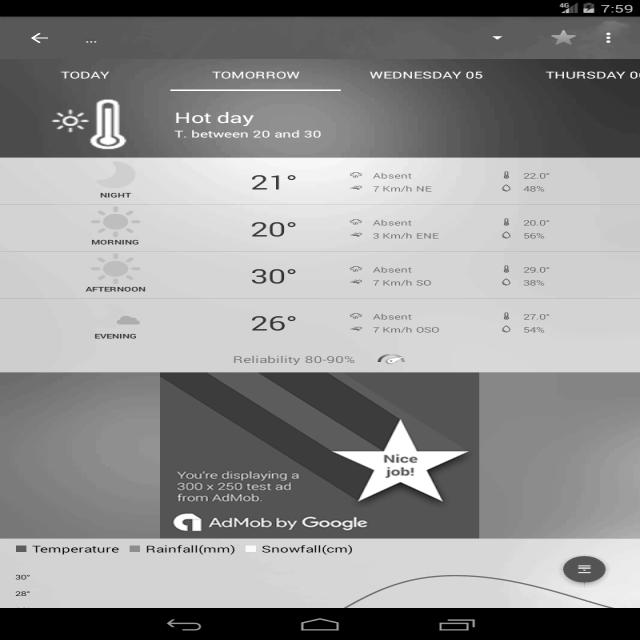ImageButton: (22, 30, 60, 46), (597, 27, 623, 49)
ImageView: (316, 398, 474, 508), (54, 96, 134, 150), (85, 202, 148, 236), (82, 251, 146, 281), (90, 161, 142, 189), (88, 305, 142, 330), (546, 29, 580, 49)
TextView: (169, 108, 333, 144), (175, 470, 307, 502), (207, 512, 371, 534), (227, 348, 356, 371), (368, 68, 494, 84), (538, 68, 638, 84), (260, 541, 354, 557), (30, 541, 126, 556), (244, 219, 304, 241), (238, 311, 296, 331), (244, 173, 294, 196), (54, 66, 119, 82)
